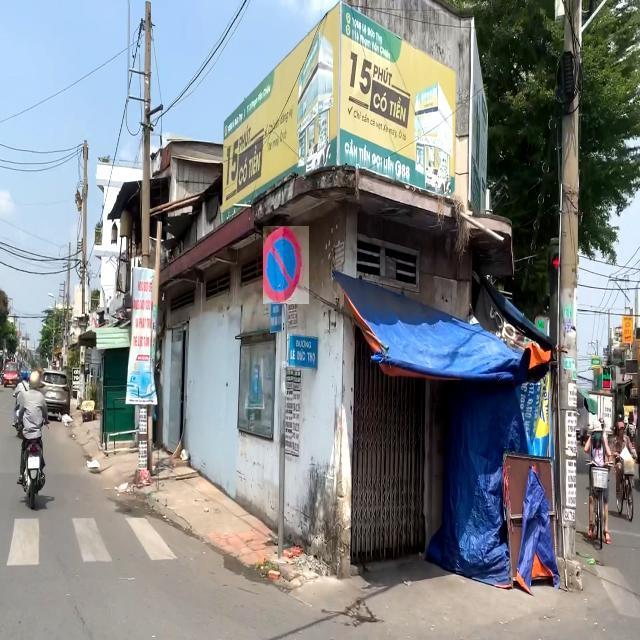P-131a: (264, 227, 310, 305)
